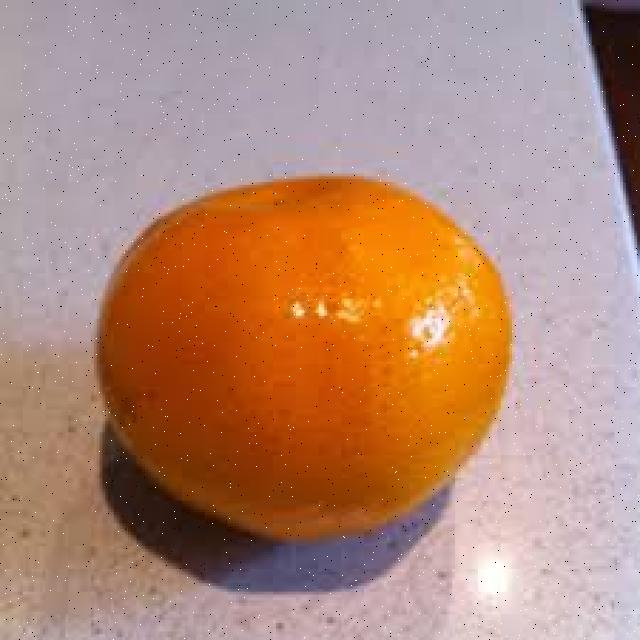Orange: (95, 172, 514, 543)
